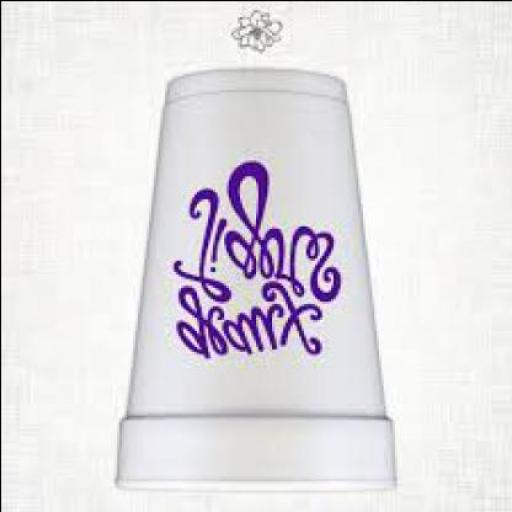paper: (114, 70, 392, 496)
